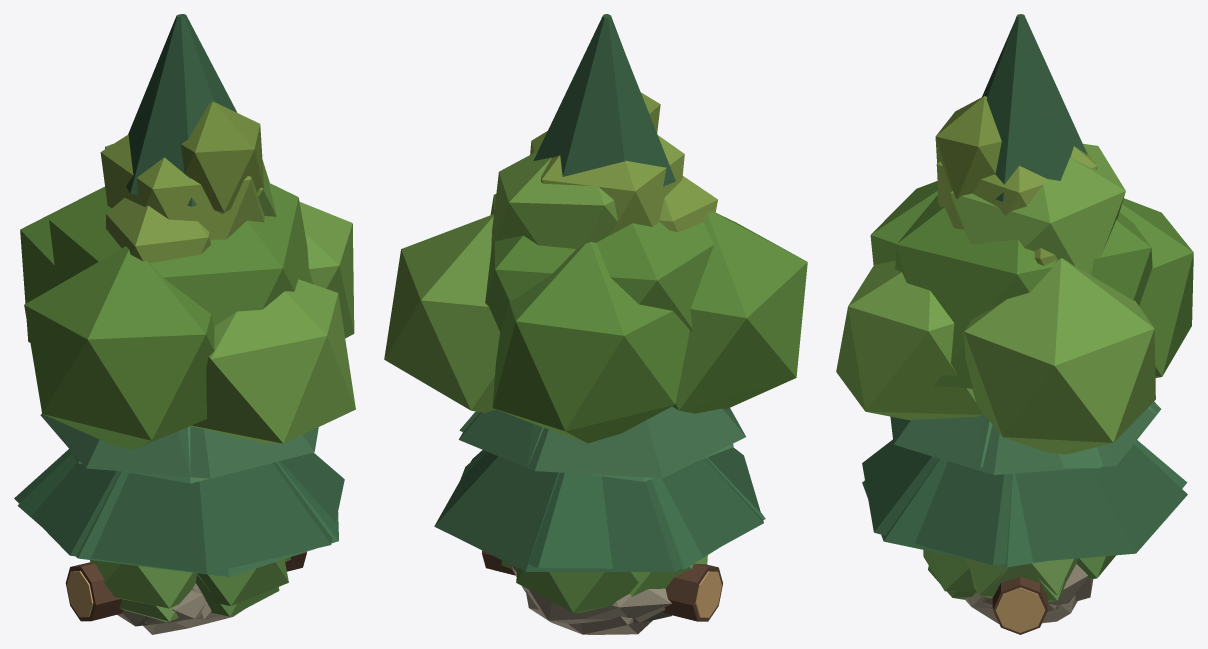
The model's file is nature.glb.
3 views of the same model, side by side, from view 1: azimuth 30°, elevation 25°; view 2: azimuth 150°, elevation 25°; view 3: azimuth 270°, elevation 25° (orthographic). The views are drawn at different scales.
Visible parts, largest first — view 1: oak, pine_b, birch, pine_a, bush_a, bush_b, log, rock_c, rock_a; view 2: oak, pine_b, pine_a, birch, bush_a, log, rock_a, rock_c; view 3: oak, pine_b, birch, pine_a, bush_b, log, bush_a, rock_a, rock_c.
Boxes of the visible parts, left/top/right/bottom form: oak: left=20, top=144, right=355, bottom=449; pine_b: left=14, top=14, right=344, bottom=573; birch: left=100, top=101, right=264, bottom=262; pine_a: left=17, top=426, right=338, bottom=576; bush_a: left=90, top=557, right=290, bottom=616; bush_b: left=120, top=559, right=288, bottom=622; log: left=65, top=551, right=306, bottom=621; rock_c: left=143, top=583, right=244, bottom=634; rock_a: left=144, top=589, right=205, bottom=624; oak: left=384, top=152, right=807, bottom=443; pine_b: left=434, top=14, right=763, bottom=572; pine_a: left=459, top=411, right=765, bottom=568; birch: left=530, top=92, right=717, bottom=234; bush_a: left=501, top=555, right=707, bottom=612; log: left=482, top=550, right=722, bottom=621; rock_a: left=511, top=565, right=671, bottom=623; rock_c: left=525, top=590, right=652, bottom=634; oak: left=836, top=143, right=1193, bottom=454; pine_b: left=862, top=14, right=1187, bottom=565; birch: left=935, top=96, right=1097, bottom=265; pine_a: left=862, top=406, right=1187, bottom=567; bush_b: left=923, top=550, right=1077, bottom=594; log: left=992, top=576, right=1048, bottom=634; bush_a: left=928, top=555, right=1115, bottom=601; rock_a: left=975, top=564, right=1093, bottom=606; rock_c: left=965, top=592, right=1077, bottom=623.
Bounding box in the file's own units: 4.33 × 7.24 × 3.88.
